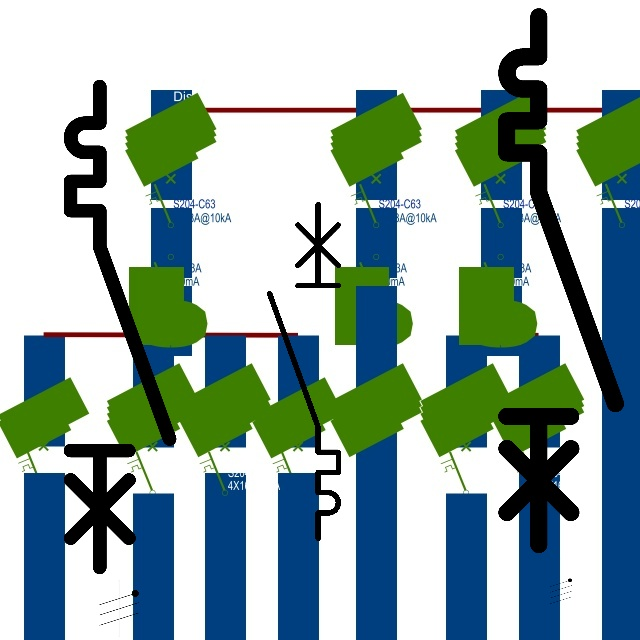interruptor_termomagnetico: (493, 3, 629, 558), (58, 74, 182, 580), (261, 196, 347, 547)
